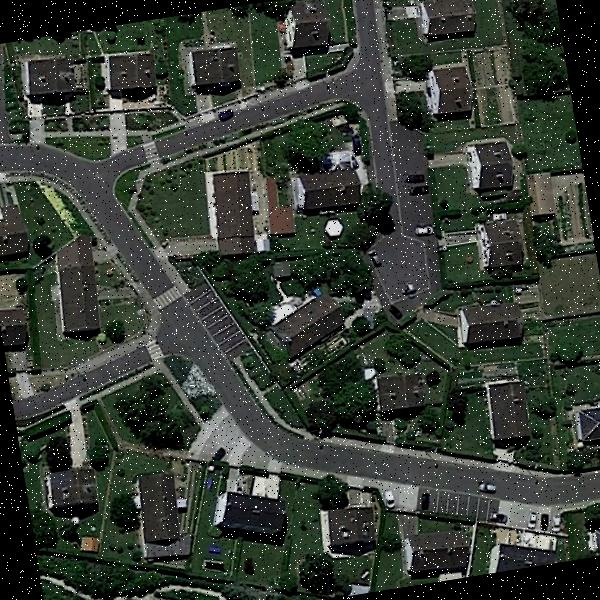Buildings: (206, 480, 294, 552), (49, 236, 104, 334), (268, 295, 350, 360), (202, 172, 262, 254), (400, 522, 476, 582), (132, 471, 190, 542), (22, 59, 88, 115), (291, 164, 361, 215), (471, 215, 532, 268), (482, 377, 532, 438), (414, 0, 483, 41), (318, 506, 379, 550), (283, 0, 333, 53), (0, 194, 34, 271), (466, 134, 514, 188), (372, 369, 428, 415), (44, 468, 98, 510), (426, 69, 477, 113), (108, 49, 158, 92), (194, 48, 244, 91), (0, 305, 26, 353), (576, 404, 600, 448), (581, 516, 600, 558)
